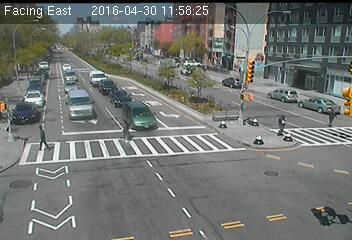neg: (267, 67, 298, 109), (304, 16, 335, 56), (245, 144, 275, 183), (183, 5, 212, 44), (221, 49, 248, 85), (301, 190, 327, 225), (135, 10, 159, 41), (44, 185, 67, 215), (207, 129, 225, 154), (113, 167, 130, 190), (104, 43, 121, 65), (34, 73, 49, 93), (70, 83, 84, 101), (40, 27, 54, 44), (66, 49, 79, 66), (179, 92, 192, 108), (135, 78, 145, 92)
pos: (24, 122, 51, 159), (116, 115, 137, 143), (275, 111, 293, 136), (326, 104, 343, 127)
